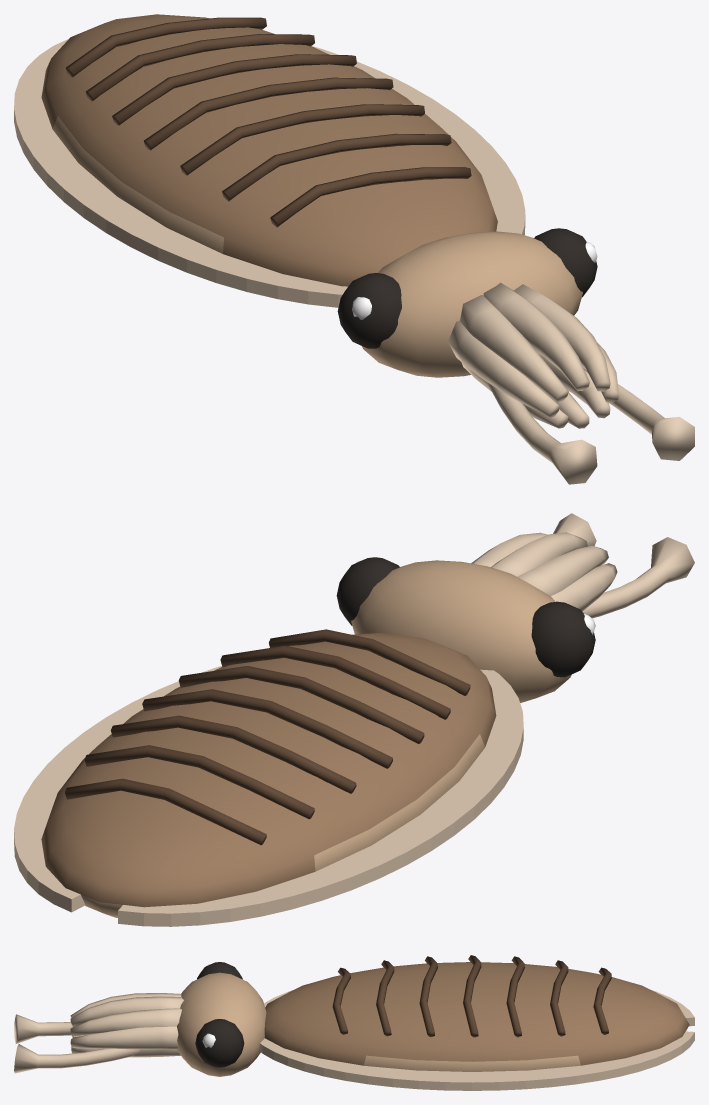
Rendered from sea-cuttlefish.glb.
The picture shows the model from 3 angles, top to bottom: view 1: azimuth 30°, elevation 25°; view 2: azimuth 150°, elevation 25°; view 3: azimuth 270°, elevation 25°; orthographic projection. The views are drawn at different scales.
Parts seen in each view (by area): view 1: squid; view 2: squid; view 3: squid.
Part boxes in pixels (<box>): squid: <box>14,14,694,484</box>; squid: <box>14,513,694,926</box>; squid: <box>14,955,694,1090</box>.
Size of the model in its own units: 0.117 by 0.0422 by 0.2913.
